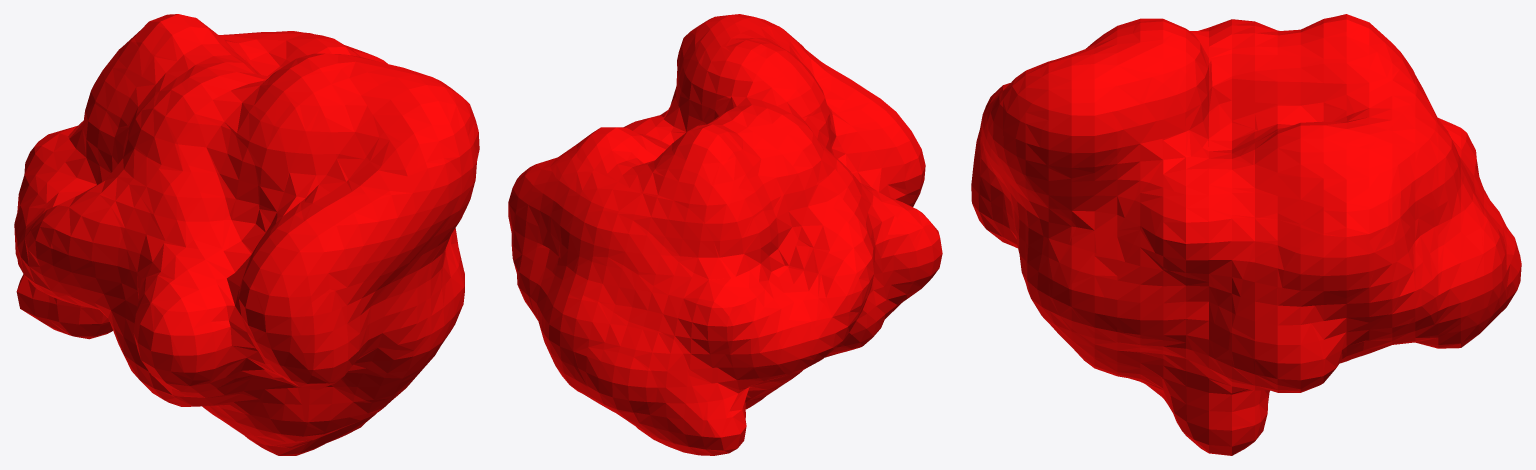
The model's file is ygiB_coarse.dae.
3 renders of one model, left to right at view 1: azimuth 30°, elevation 25°; view 2: azimuth 150°, elevation 25°; view 3: azimuth 270°, elevation 25°, orthographic. The views are drawn at different scales.
Parts seen in each view (by area): view 1: ygiB; view 2: ygiB; view 3: ygiB.
Part boxes in pixels (x1,y1,x2,y2): ygiB: (14, 14, 479, 455); ygiB: (508, 14, 942, 455); ygiB: (971, 14, 1521, 455).
Bounding box in the file's own units: 44.49 × 44.68 × 54.87.
